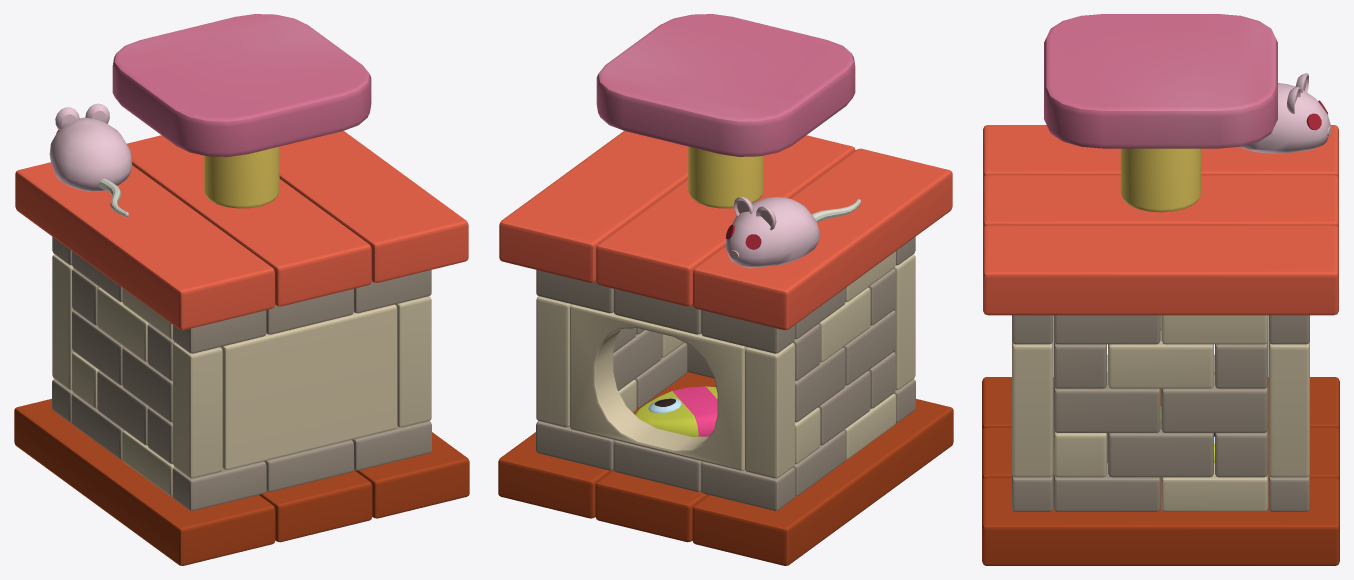
File: lvl_95.fbx
The picture shows the model from 3 angles, left to right: view 1: azimuth 30°, elevation 25°; view 2: azimuth 150°, elevation 25°; view 3: azimuth 270°, elevation 25°; orthographic projection. The views are drawn at different scales.
Visible parts, largest first — view 1: Cube_L1, Cube_L1_12, Cube_L1_20, Cube_L1_50, Cube_L1_3, Cube_L1_30, Cube_L1_7, Cube_L1_1, Cube_L1_51, Cube_L1_18, Cube_L1_6, Cube_L1_13 (+20 smaller); view 2: Cube_L1, Cube_L1_12, Cube_L1_50, Cube_L1_3, Cube_L1_30, Cube_L1_19, Cube_L1_5, Cube_L1_51, Cube_L1_1, Cube_L1_18, Cube_L1_4, Cube_L1_13 (+23 smaller); view 3: Cube_L1_3, Cube_L1, Cube_L1_51, Cube_L1_30, Cube_L1_12, Cube_L1_4, Cube_L1_6, Cube_L1_13, Cube_L1_8, Cube_L1_9, Cube_L1_31, Cube_L1_33 (+15 smaller).
Part boxes in pixels (x1=…): Cube_L1: x1=112, y1=14, x2=371, y2=156; Cube_L1_12: x1=15, y1=162, x2=274, y2=330; Cube_L1_20: x1=220, y1=304, x2=397, y2=469; Cube_L1_50: x1=14, y1=399, x2=275, y2=565; Cube_L1_3: x1=279, y1=131, x2=468, y2=282; Cube_L1_30: x1=127, y1=135, x2=371, y2=306; Cube_L1_7: x1=173, y1=342, x2=222, y2=478; Cube_L1_1: x1=49, y1=103, x2=132, y2=216; Cube_L1_51: x1=354, y1=432, x2=469, y2=518; Cube_L1_18: x1=259, y1=470, x2=372, y2=542; Cube_L1_6: x1=395, y1=296, x2=431, y2=427; Cube_L1_13: x1=204, y1=146, x2=279, y2=208; Cube_L1: x1=596, y1=14, x2=855, y2=156; Cube_L1_12: x1=693, y1=148, x2=952, y2=330; Cube_L1_50: x1=692, y1=399, x2=953, y2=565; Cube_L1_3: x1=499, y1=131, x2=688, y2=282; Cube_L1_30: x1=596, y1=135, x2=855, y2=306; Cube_L1_19: x1=570, y1=304, x2=746, y2=470; Cube_L1_5: x1=745, y1=342, x2=794, y2=478; Cube_L1_51: x1=498, y1=372, x2=715, y2=518; Cube_L1_1: x1=725, y1=197, x2=861, y2=268; Cube_L1_18: x1=595, y1=470, x2=708, y2=542; Cube_L1_4: x1=536, y1=296, x2=571, y2=427; Cube_L1_13: x1=688, y1=146, x2=763, y2=208; Cube_L1_3: x1=983, y1=225, x2=1338, y2=315; Cube_L1: x1=1044, y1=14, x2=1277, y2=148; Cube_L1_51: x1=982, y1=478, x2=1339, y2=565; Cube_L1_30: x1=983, y1=175, x2=1338, y2=229; Cube_L1_12: x1=983, y1=125, x2=1338, y2=178; Cube_L1_4: x1=1268, y1=341, x2=1309, y2=477; Cube_L1_6: x1=1012, y1=341, x2=1053, y2=477; Cube_L1_13: x1=1120, y1=148, x2=1201, y2=212; Cube_L1_8: x1=1053, y1=375, x2=1160, y2=432; Cube_L1_9: x1=1161, y1=375, x2=1268, y2=432; Cube_L1_31: x1=1108, y1=331, x2=1213, y2=388; Cube_L1_33: x1=1108, y1=419, x2=1213, y2=477.
Bounding box in the file's own units: 3.89 × 5.19 × 3.89.
